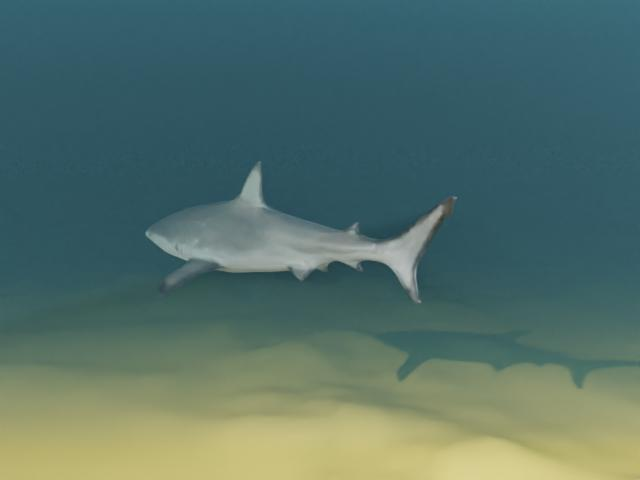Carribean Shark.001: (145, 161, 456, 303)
